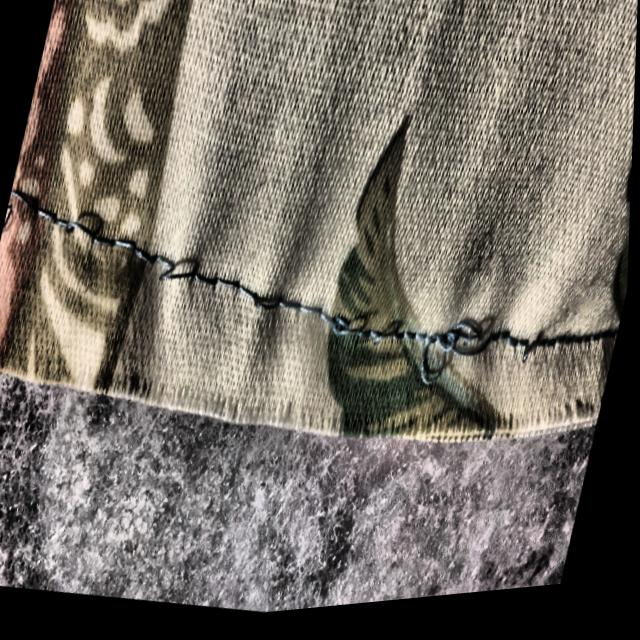Stitch: (426, 337, 493, 395), (154, 247, 209, 312), (63, 196, 108, 258), (251, 285, 294, 337)
